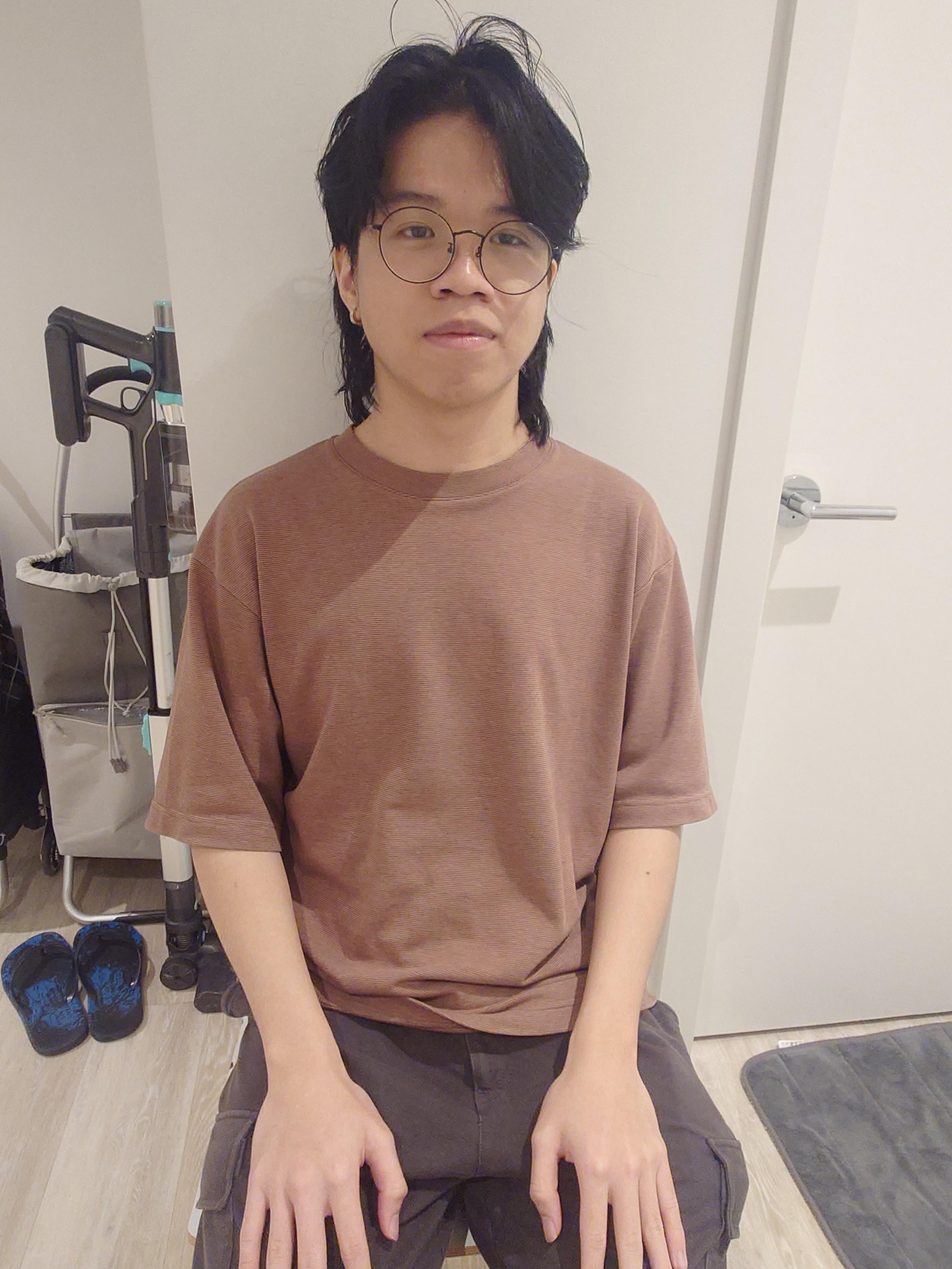GoodPosture: (145, 41, 751, 1269)
